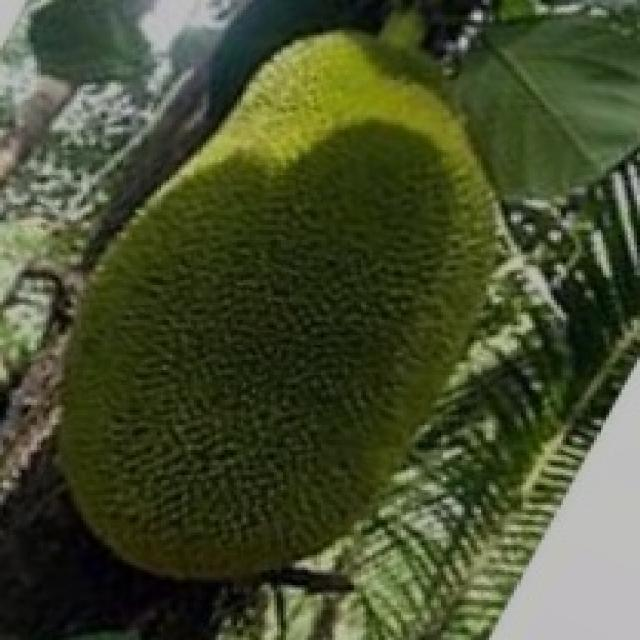Fruit: (139, 0, 606, 330)
